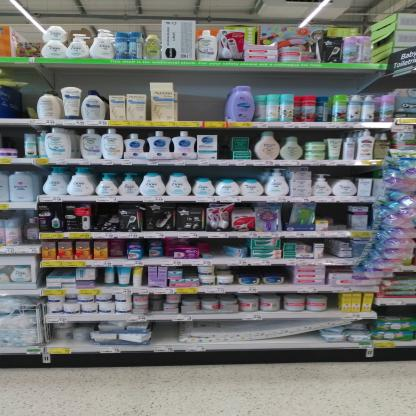Void: (176, 83, 226, 121), (316, 204, 348, 220), (332, 164, 374, 176), (239, 266, 289, 276), (378, 305, 416, 317), (154, 322, 172, 340), (6, 128, 22, 144), (186, 270, 196, 276)
